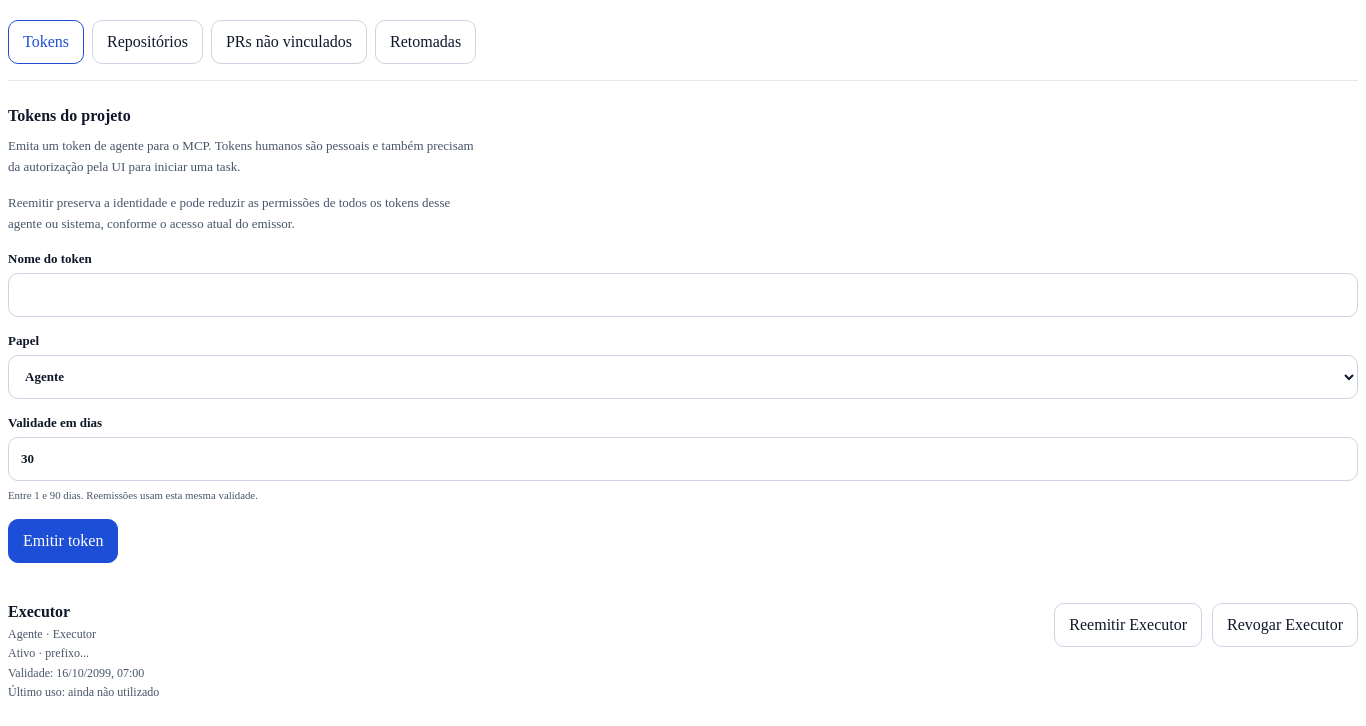
it: Configuração do método › revogação pede confirmação e reflete os metadados atualizados
(page scrolled)
Click the button "Revogar Executor". click: (1285, 625)
box: [1212,603,1358,647]
(page scrolled)
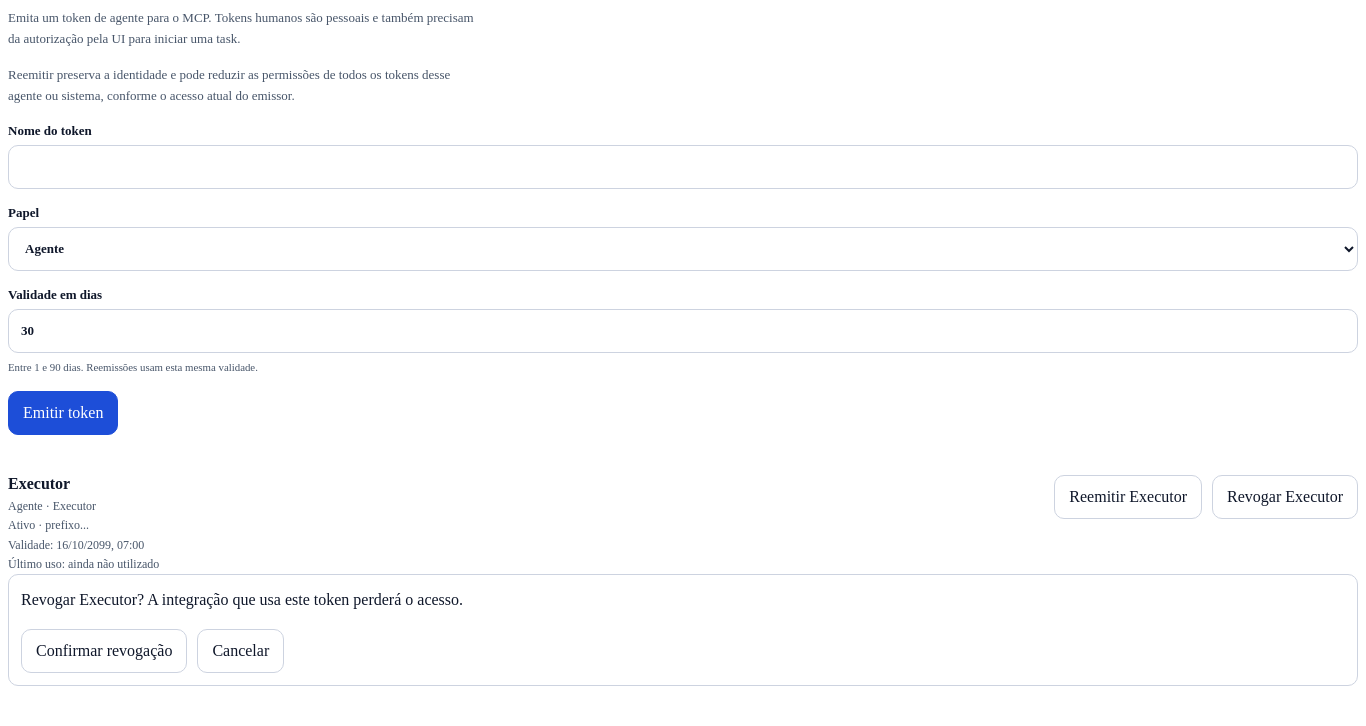
Click the button "Confirmar revogação". click: (104, 650)
box: [21,628,187,672]
(page scrolled)
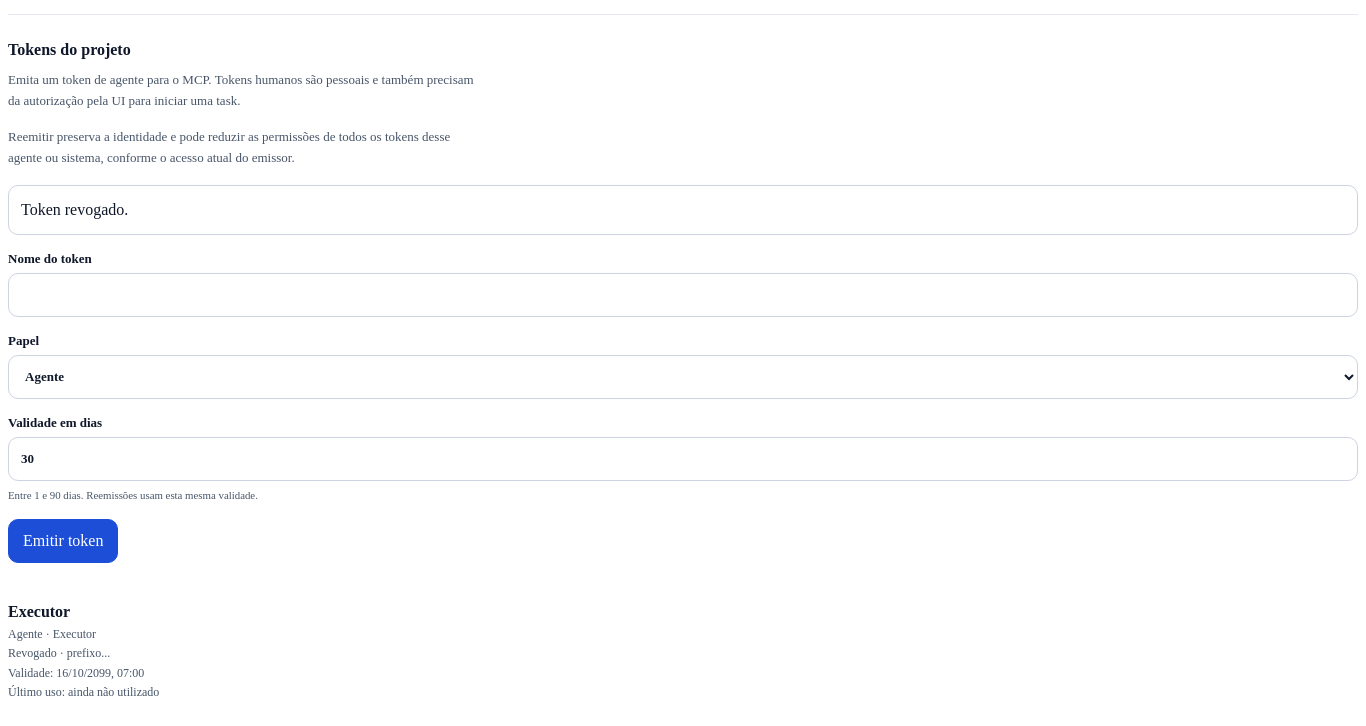
Expected: the text "Token revogado." is shown, [8,185,1358,235]
Expected: the button "Revogar Executor" is gone
